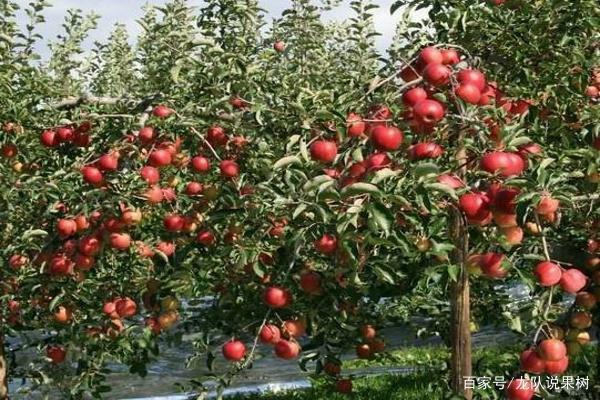apple: (492, 188, 522, 216), (460, 192, 490, 220), (481, 251, 511, 279), (372, 124, 400, 151), (414, 99, 443, 125), (537, 338, 568, 362), (311, 140, 336, 164), (484, 150, 509, 174), (560, 269, 585, 293), (534, 261, 559, 285), (508, 377, 534, 398), (222, 340, 245, 360), (275, 339, 298, 359), (259, 323, 282, 343), (263, 288, 286, 308), (457, 85, 479, 104), (49, 256, 71, 275), (219, 159, 241, 178), (76, 236, 98, 255), (419, 46, 441, 65), (461, 70, 483, 89), (427, 65, 449, 84), (108, 232, 130, 251), (279, 320, 301, 339), (115, 298, 137, 317), (162, 212, 184, 231), (118, 207, 140, 226), (80, 165, 102, 184), (72, 253, 94, 272), (139, 165, 161, 184), (38, 128, 60, 147), (205, 126, 227, 145), (54, 219, 76, 238), (189, 156, 211, 175), (47, 306, 69, 325), (55, 125, 77, 144)
